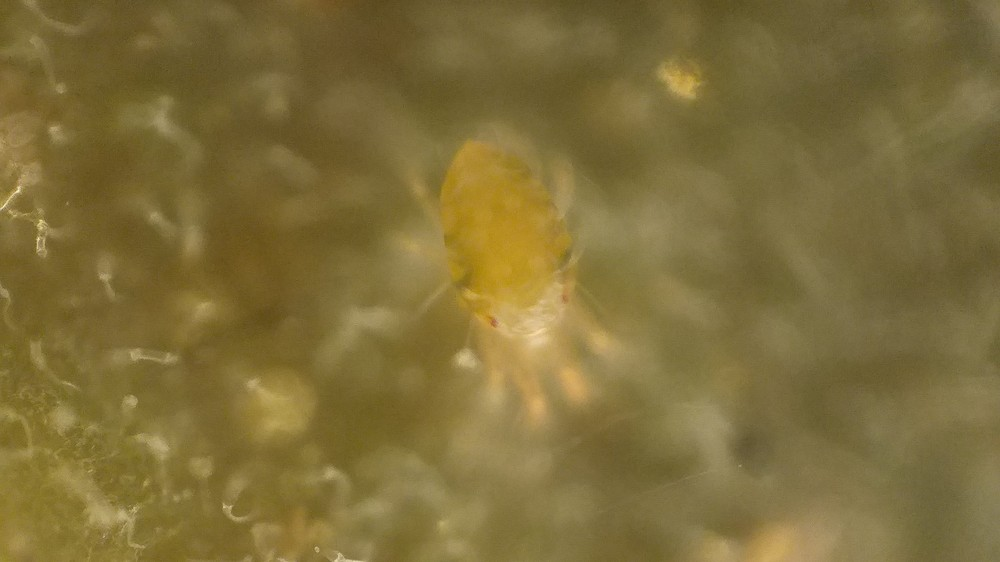Aracnido Rojo: (361, 116, 656, 449)
